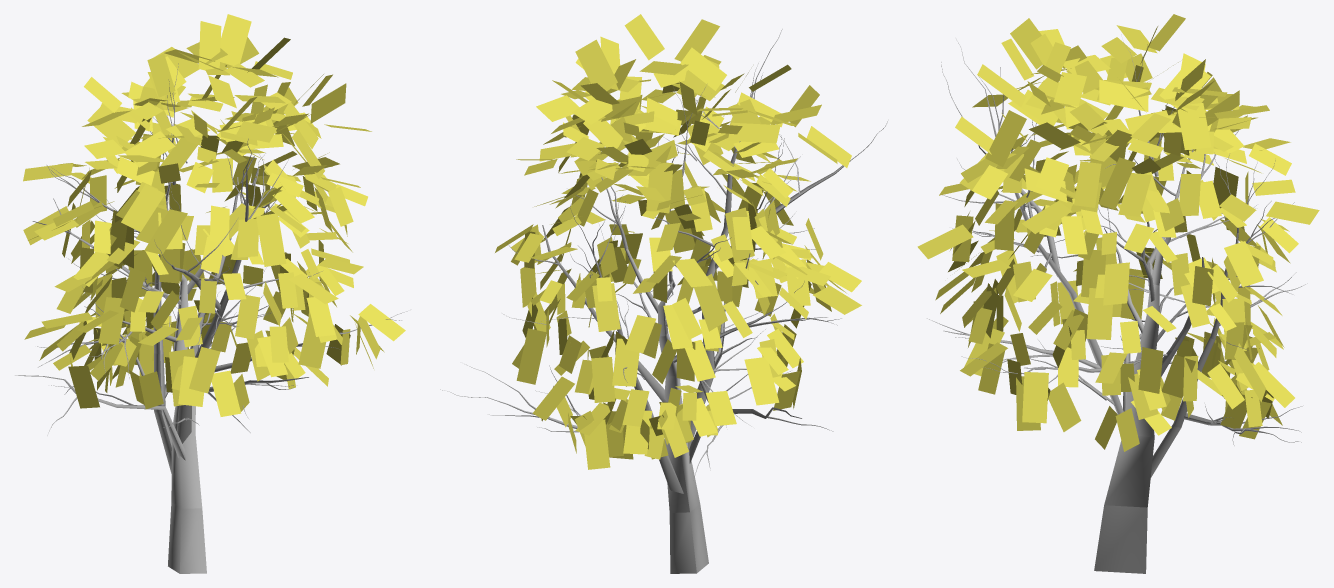
The model's file is ArbolGuayacan.fbx.
3 views of the same model, side by side, from view 1: azimuth 30°, elevation 25°; view 2: azimuth 150°, elevation 25°; view 3: azimuth 270°, elevation 25° (orthographic). The views are drawn at different scales.
Visible parts, largest first — view 1: leaves2, leaves3, polySurface5, polySurface2, polySurface229, polySurface4; view 2: leaves2, leaves3, polySurface5, polySurface229, polySurface282, polySurface2; view 3: leaves2, leaves3, polySurface5, polySurface2, polySurface229.
Boxes of the visible parts, bbox=[...] form: leaves2: bbox=[23, 14, 405, 416]; leaves3: bbox=[34, 65, 353, 409]; polySurface5: bbox=[168, 274, 206, 573]; polySurface2: bbox=[153, 182, 171, 473]; polySurface229: bbox=[177, 138, 251, 443]; polySurface4: bbox=[15, 375, 185, 460]; leaves2: bbox=[495, 14, 861, 469]; leaves3: bbox=[531, 76, 824, 457]; polySurface5: bbox=[657, 271, 708, 573]; polySurface229: bbox=[687, 29, 782, 449]; polySurface282: bbox=[542, 225, 666, 402]; polySurface2: bbox=[597, 239, 683, 493]; leaves2: bbox=[917, 14, 1319, 451]; leaves3: bbox=[967, 58, 1298, 420]; polySurface5: bbox=[1094, 237, 1170, 573]; polySurface2: bbox=[1150, 227, 1238, 477]; polySurface229: bbox=[956, 39, 1123, 414].
Size of the model in its own units: 1618 by 2337 by 1571.
